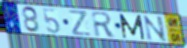5: (42, 7, 62, 35)
8: (21, 5, 41, 34)
M: (118, 13, 147, 41)
N: (142, 14, 168, 43)
R: (90, 11, 118, 38)
Z: (67, 9, 93, 38)
